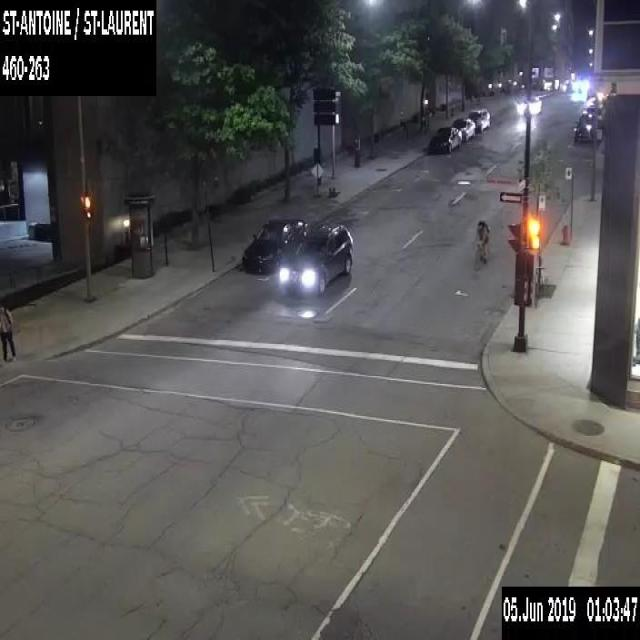cyclist: (471, 219, 490, 269)
pedestrian: (0, 301, 16, 362)
vehicle: (280, 221, 352, 293), (241, 217, 310, 272), (428, 125, 461, 153), (573, 114, 599, 142), (450, 116, 475, 141), (467, 107, 490, 132), (518, 95, 541, 114), (584, 104, 602, 118)
